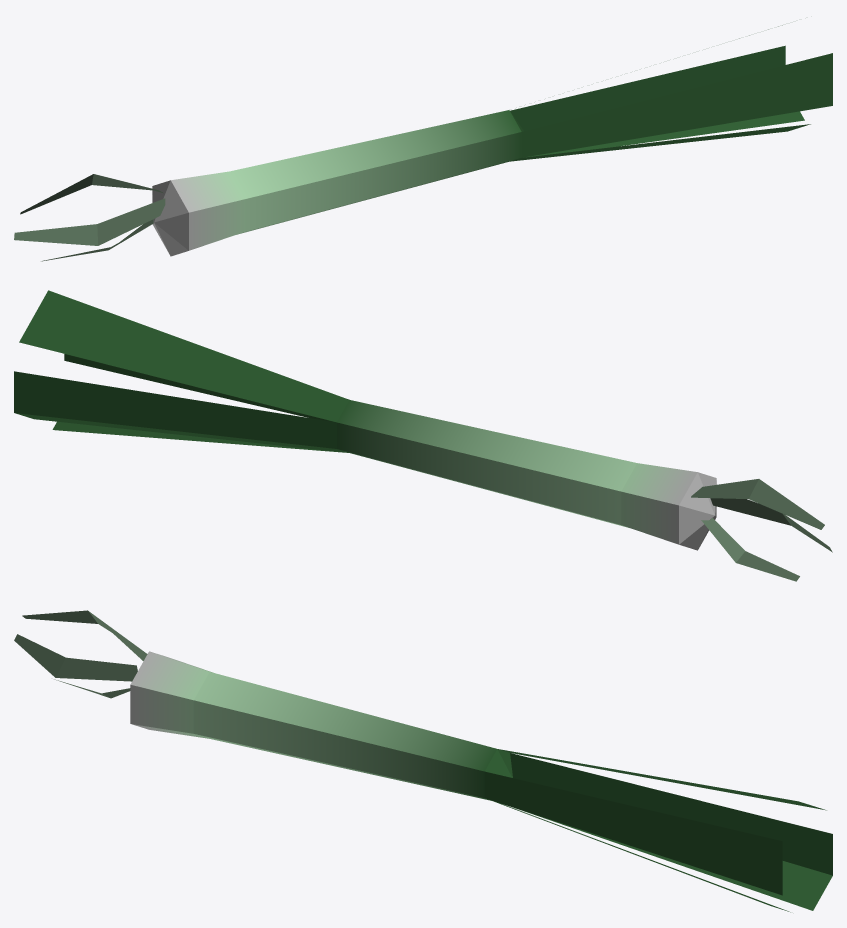
Rendered from Leek.fbx.
3 renders of one model, top to bottom at view 1: azimuth 30°, elevation 25°; view 2: azimuth 150°, elevation 25°; view 3: azimuth 330°, elevation 25°, orthographic. The views are drawn at different scales.
Parts seen in each view (by area): view 1: Leek; view 2: Leek; view 3: Leek.
Boxes of the visible parts, left/top/right/bottom form: Leek: left=14, top=25, right=832, bottom=261; Leek: left=14, top=290, right=832, bottom=581; Leek: left=14, top=610, right=832, bottom=912.
Size of the model in its own units: 2.1 by 0.3163 by 0.2233.
